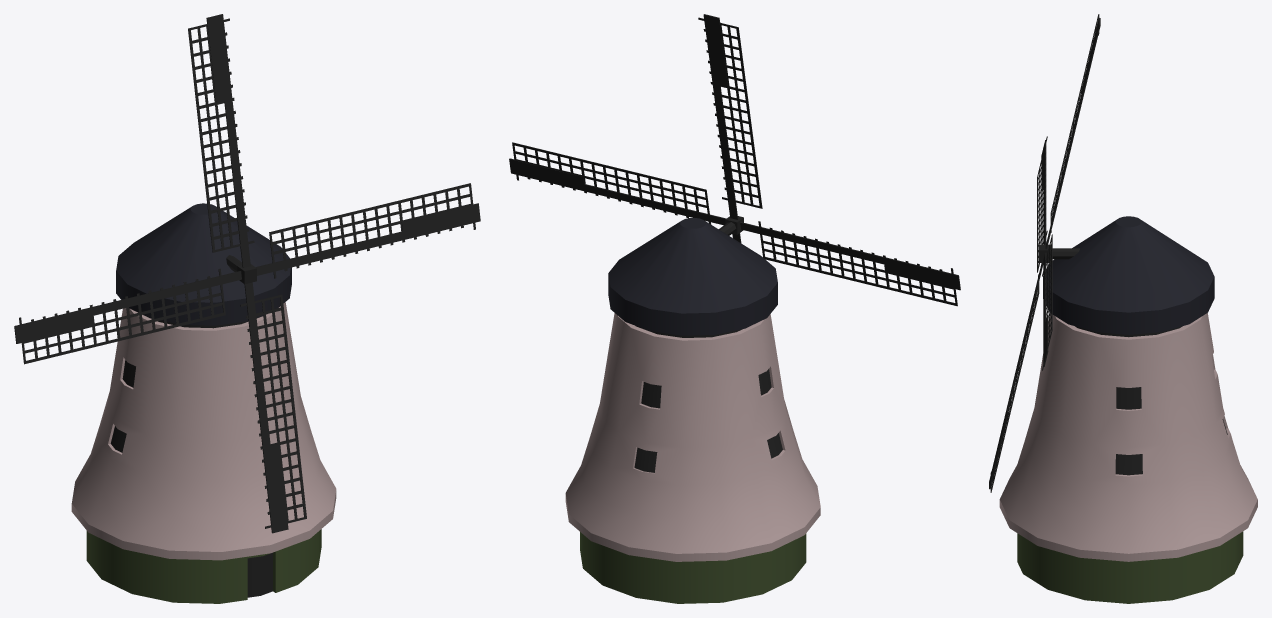
The model's file is Windmill_02.fbx.
3 views of the same model, side by side, from view 1: azimuth 30°, elevation 25°; view 2: azimuth 150°, elevation 25°; view 3: azimuth 270°, elevation 25° (orthographic). The views are drawn at different scales.
Visible parts, largest first — view 1: Windmill_02, Windmill_02_Propeller; view 2: Windmill_02, Windmill_02_Propeller; view 3: Windmill_02, Windmill_02_Propeller.
Boxes of the visible parts, x1,y1,x2,y2 form: Windmill_02: (71,203,336,603); Windmill_02_Propeller: (14,14,480,533); Windmill_02: (565,216,820,603); Windmill_02_Propeller: (509,14,960,306); Windmill_02: (999,216,1257,603); Windmill_02_Propeller: (989,14,1100,492).
Size of the model in its own units: 18.96 by 21.44 by 9.81.
